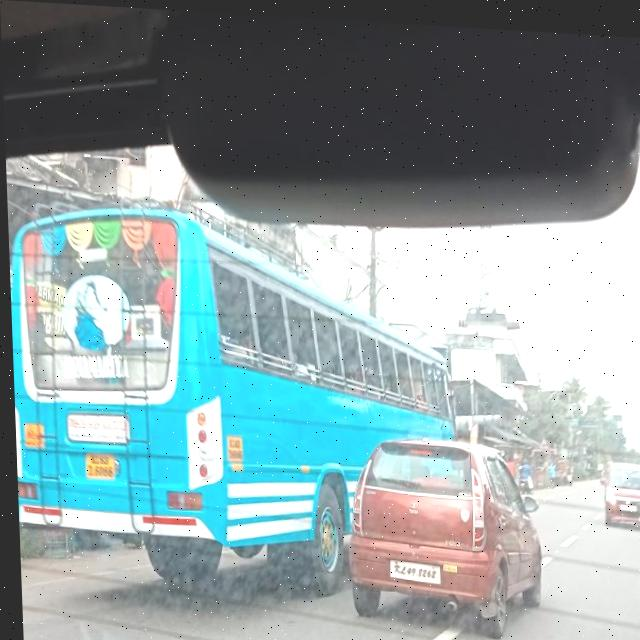plate: (72, 454, 119, 484), (384, 553, 437, 579), (613, 496, 634, 506)
